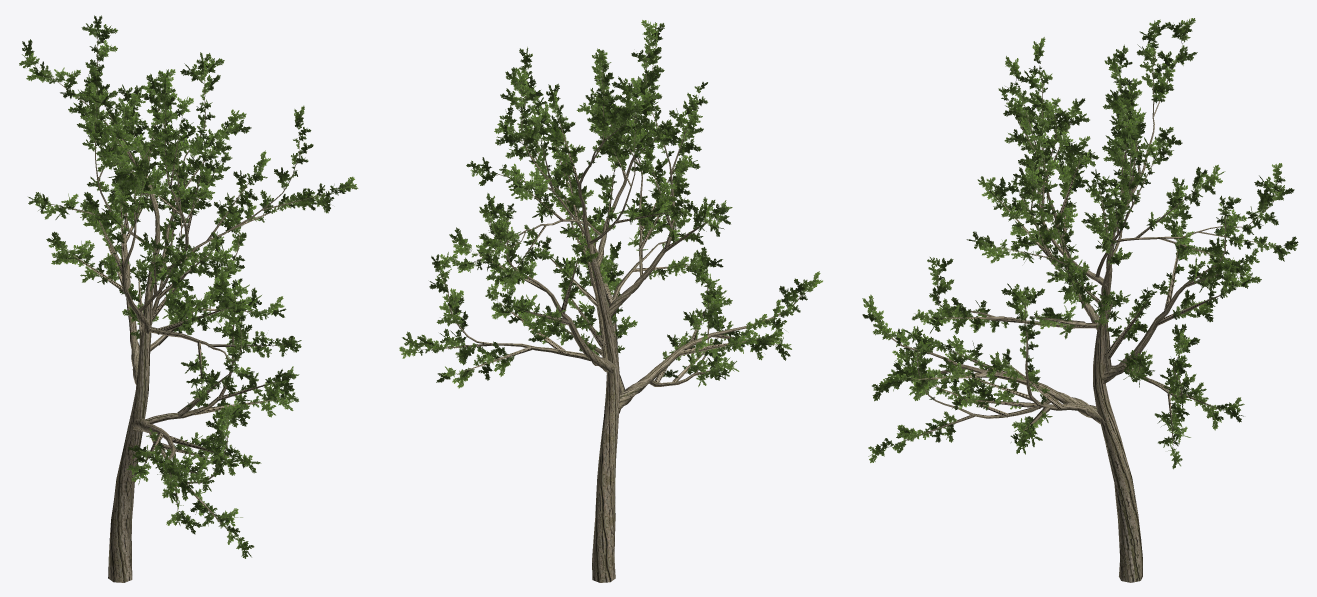
File: oak_small_02.glb
The picture shows the model from 3 angles, left to right: view 1: azimuth 30°, elevation 25°; view 2: azimuth 150°, elevation 25°; view 3: azimuth 270°, elevation 25°; orthographic projection. The views are drawn at different scales.
Visible parts, largest first — view 1: Tree; view 2: Tree; view 3: Tree.
Part boxes in pixels (x1,y1,x2,y2): Tree: [19, 15, 358, 582]; Tree: [399, 20, 822, 582]; Tree: [862, 18, 1298, 582].
Bounding box in the file's own units: 27.2 × 48.98 × 35.65.
2 materials, 2 textured.
